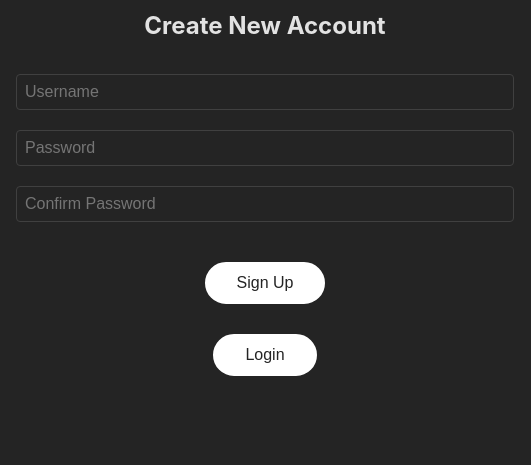
Test: sign up Component › displays validation errors
What coordinates should you click on to do the following:
click the button "Sign Up"
I would click on:
 (265, 283)
Its box is [204,262,325,304].
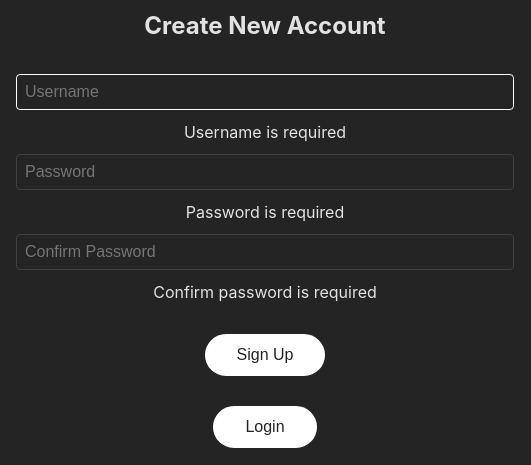
Result: the text "Username is required" is shown at [184,122,346,142]
Result: the text "Password is required" is shown at [186,202,344,222]
Result: the text "Confirm password is required" is shown at [153,282,377,302]
